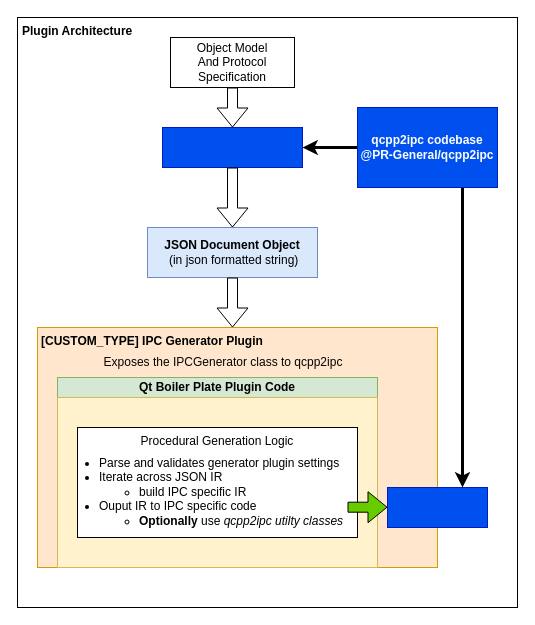
Image size: 535x625. Some labels were removed from this diagram. The shapes that lost their labels are listed below. From the top down, each one's box as (x1, y1, x2, y2) in pixels, then its label:
(162, 126, 302, 168): qcpp2ipc (program)
(56, 396, 378, 568): IPCGenerator : public GeneratorInterface
(386, 486, 488, 528): qcpp2ipc utility classes
